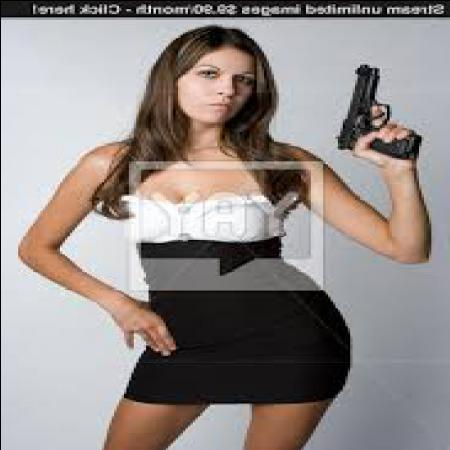Pistol: (336, 61, 421, 158)
